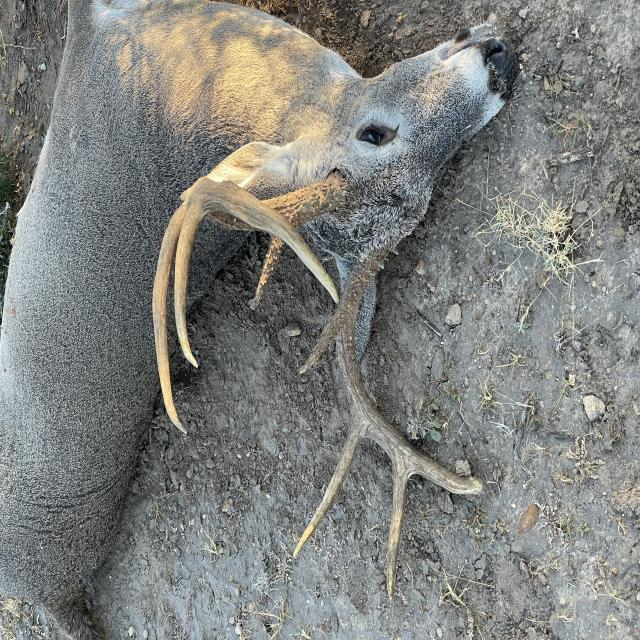L-G1: (247, 332, 305, 380)
L-G3: (204, 232, 334, 287)
R-F: (108, 447, 297, 640)
R-G1: (199, 400, 246, 453)
R-G2: (61, 390, 167, 491)
R-G3: (29, 515, 135, 556)
